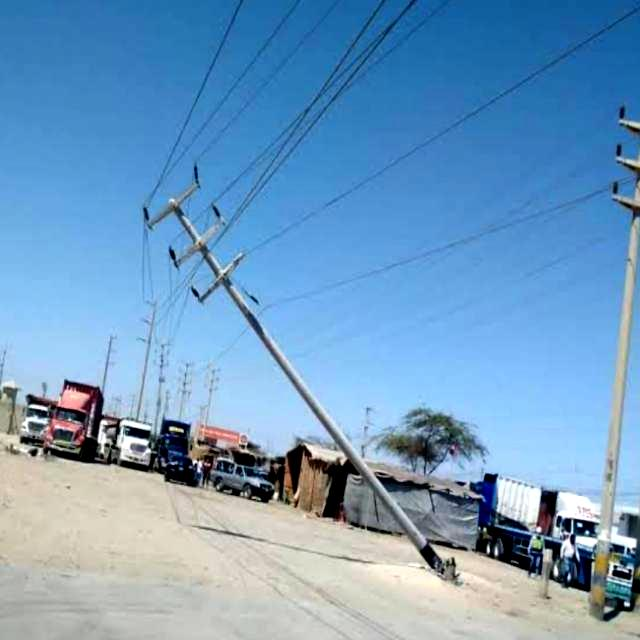Broken Pole: (137, 165, 457, 580)
